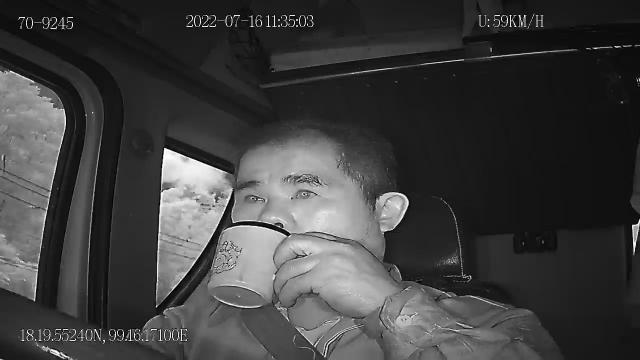SafeDriving: (284, 178, 328, 204), (236, 182, 270, 207)
Seatbelt: (240, 294, 332, 360)
